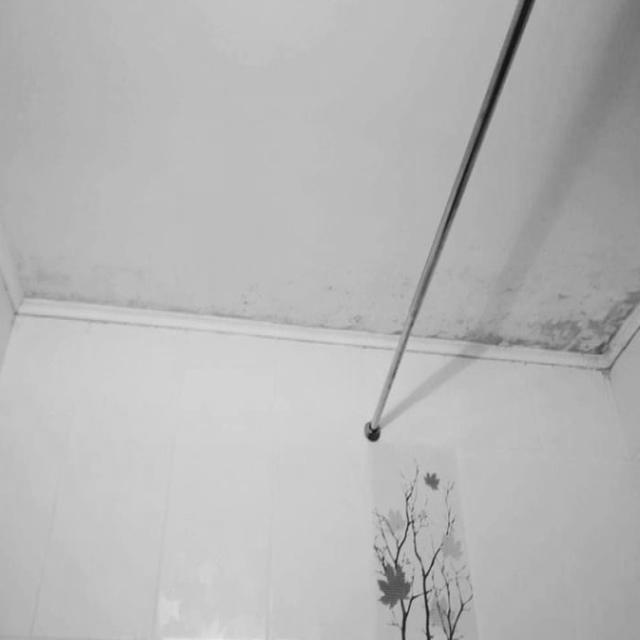stain marks: (0, 422, 300, 640), (0, 234, 418, 346), (427, 243, 640, 388)
